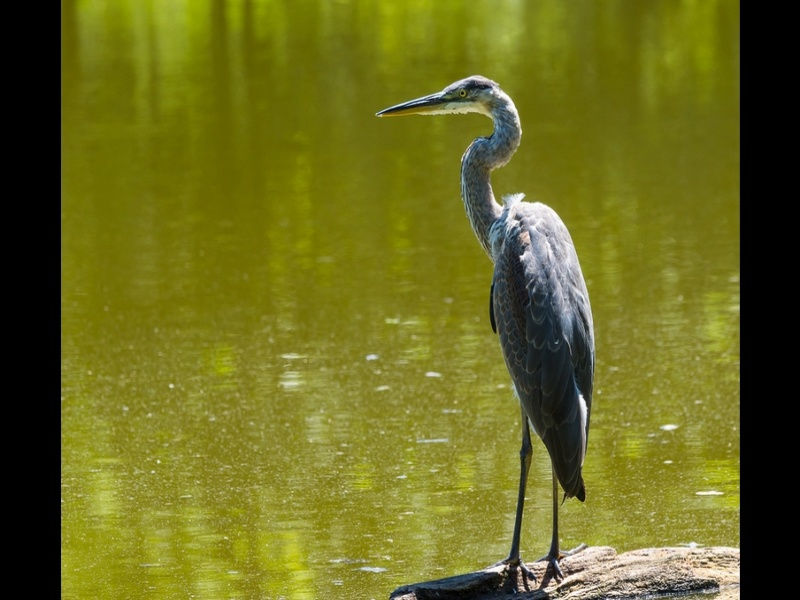heron: (368, 72, 603, 582)
